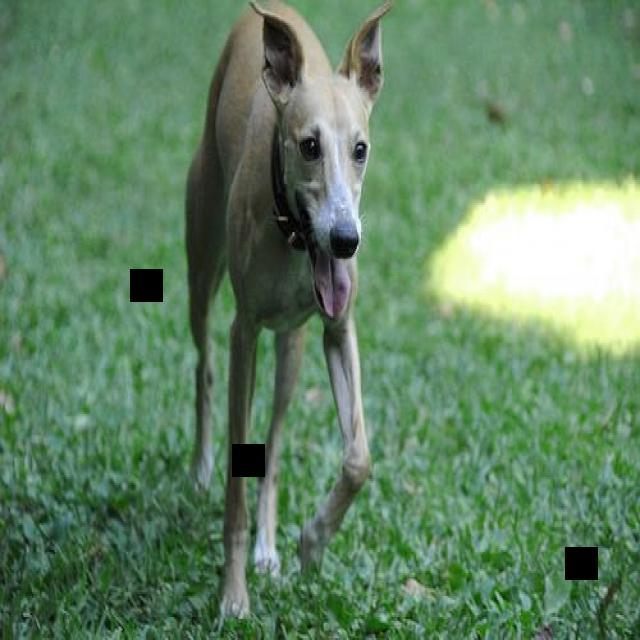adult_dog: (185, 1, 399, 619)
